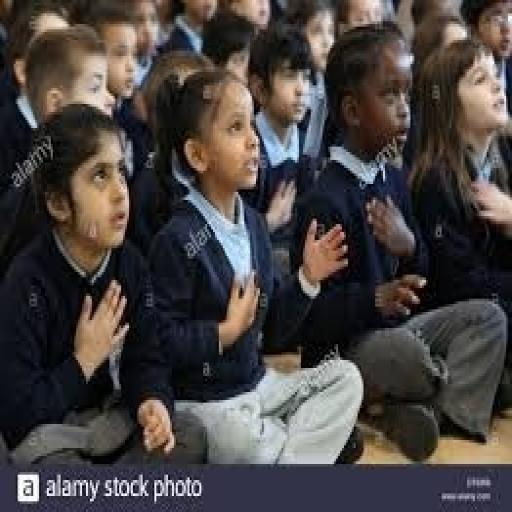clapping: (0, 0, 510, 464), (303, 19, 510, 461), (146, 64, 366, 464), (0, 98, 180, 466)
